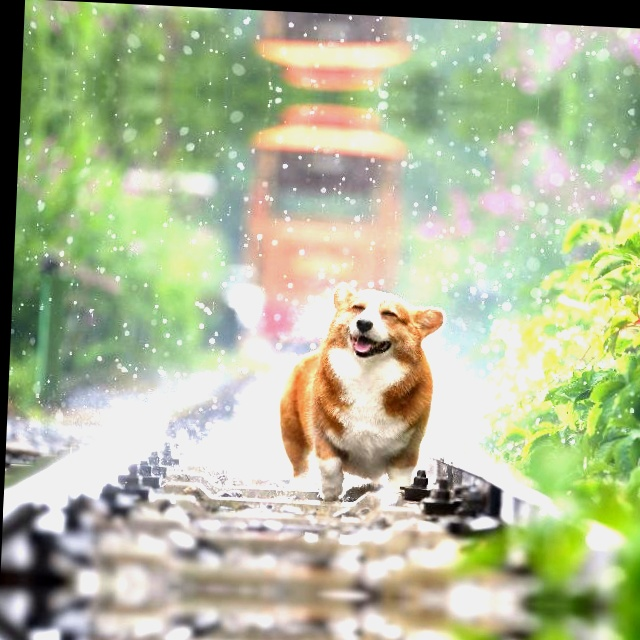dog: (249, 257, 473, 498)
